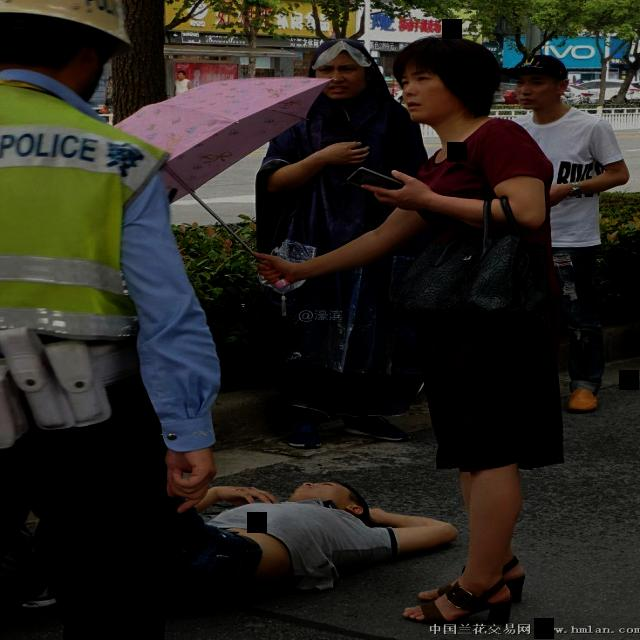Fall-Detected: (0, 468, 461, 628)
